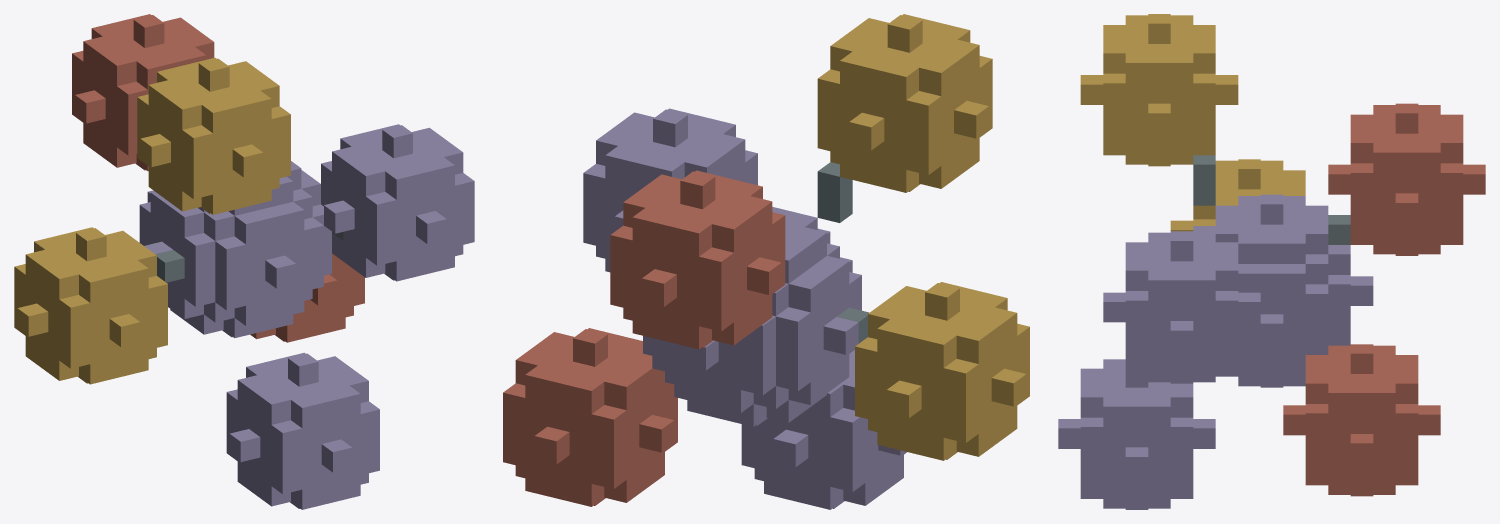
Rendered from astronomy-12.glb.
The picture shows the model from 3 angles, left to right: view 1: azimuth 30°, elevation 25°; view 2: azimuth 150°, elevation 25°; view 3: azimuth 270°, elevation 25°; orthographic projection. The views are drawn at different scales.
Visible parts, largest first — view 1: Solar system; view 2: Solar system; view 3: Solar system.
Part boxes in pixels (x1=…): Solar system: x1=14, y1=14, x2=474, y2=509; Solar system: x1=503, y1=14, x2=1029, y2=509; Solar system: x1=1058, y1=14, x2=1485, y2=509.
Size of the model in its own units: 1.68 by 1.76 by 1.52.
